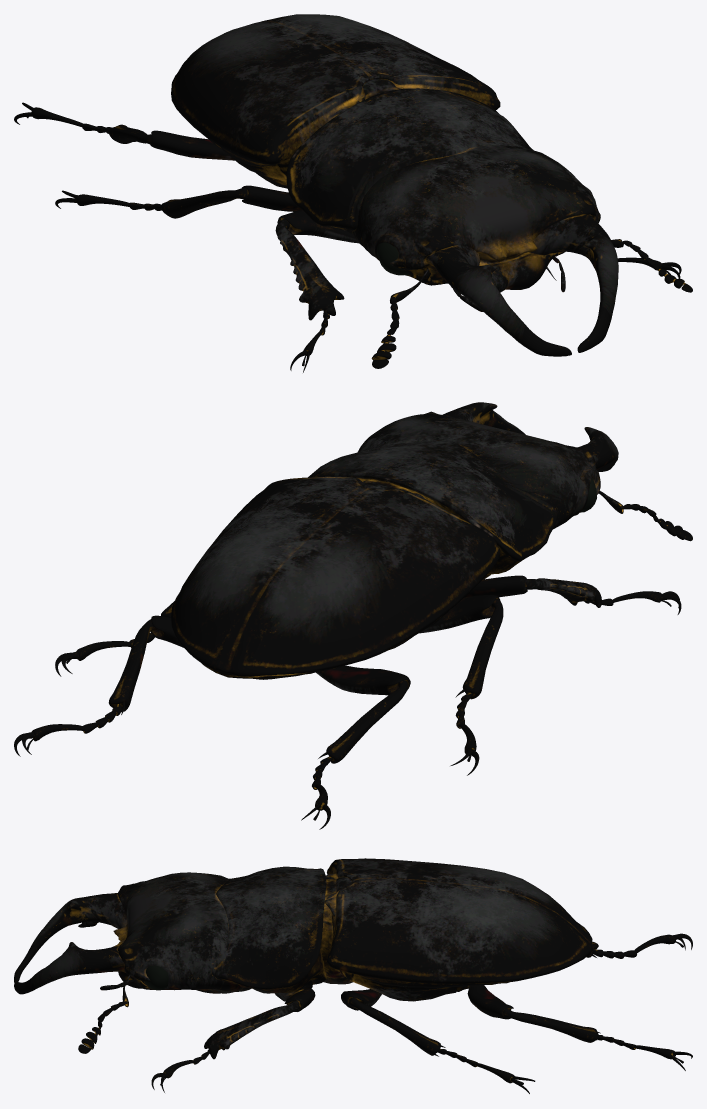
3 renders of one model, top to bottom at view 1: azimuth 30°, elevation 25°; view 2: azimuth 150°, elevation 25°; view 3: azimuth 270°, elevation 25°, orthographic. The views are drawn at different scales.
Visible parts, largest first — view 1: node_id30; view 2: node_id30; view 3: node_id30.
Part boxes in pixels (x1=…): node_id30: x1=14, y1=14, x2=692, y2=372; node_id30: x1=14, y1=402, x2=692, y2=829; node_id30: x1=14, y1=858, x2=692, y2=1093.
Size of the model in its own units: 0.00512 by 0.00193 by 0.00863.
Materials: 1 (1 with a texture image).
